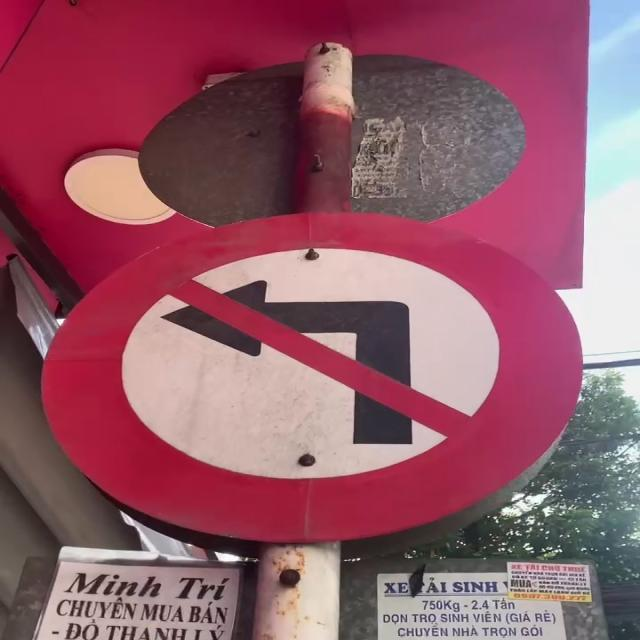Cam_Re_Trai: (34, 207, 586, 543)
